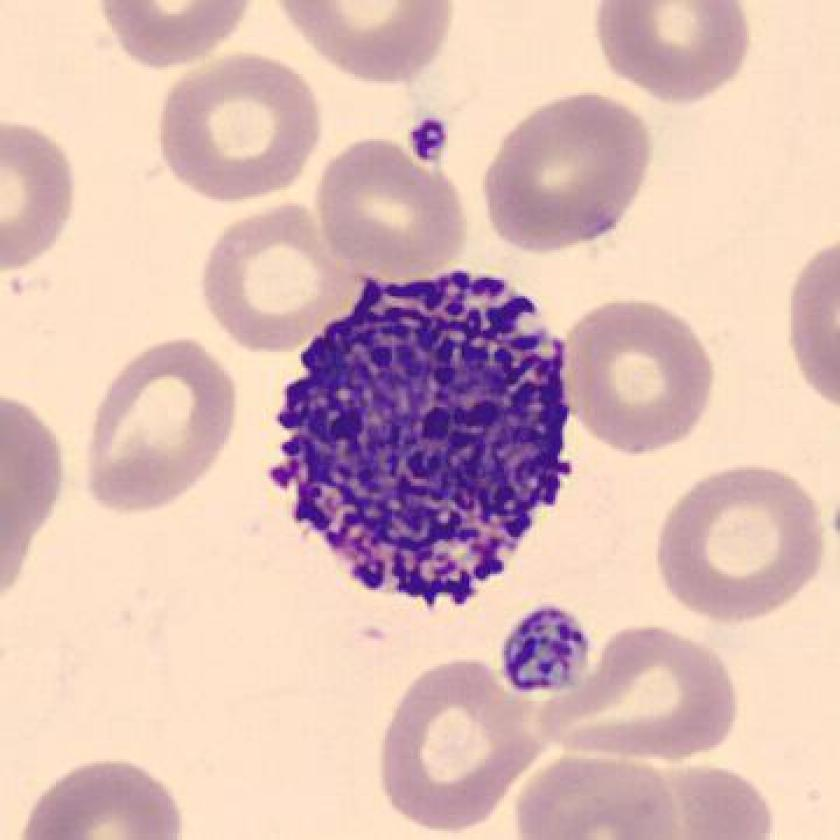basophil: (267, 258, 577, 605)
